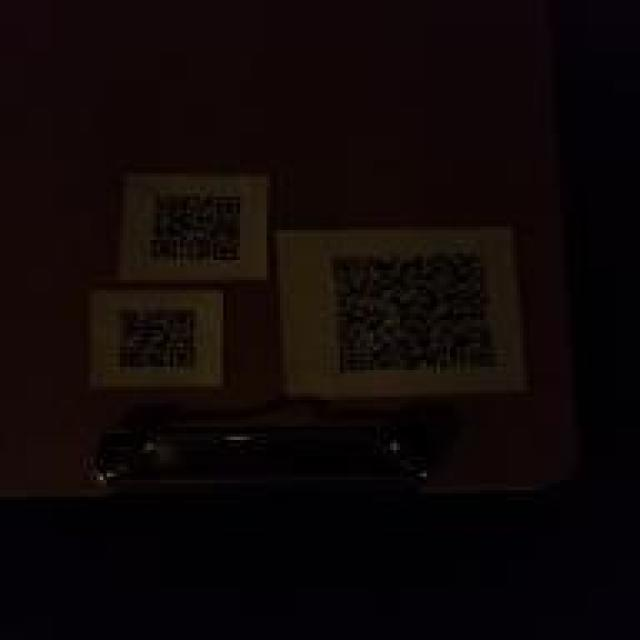QR_CODE: (322, 240, 506, 387), (138, 182, 257, 270), (102, 297, 210, 380)
